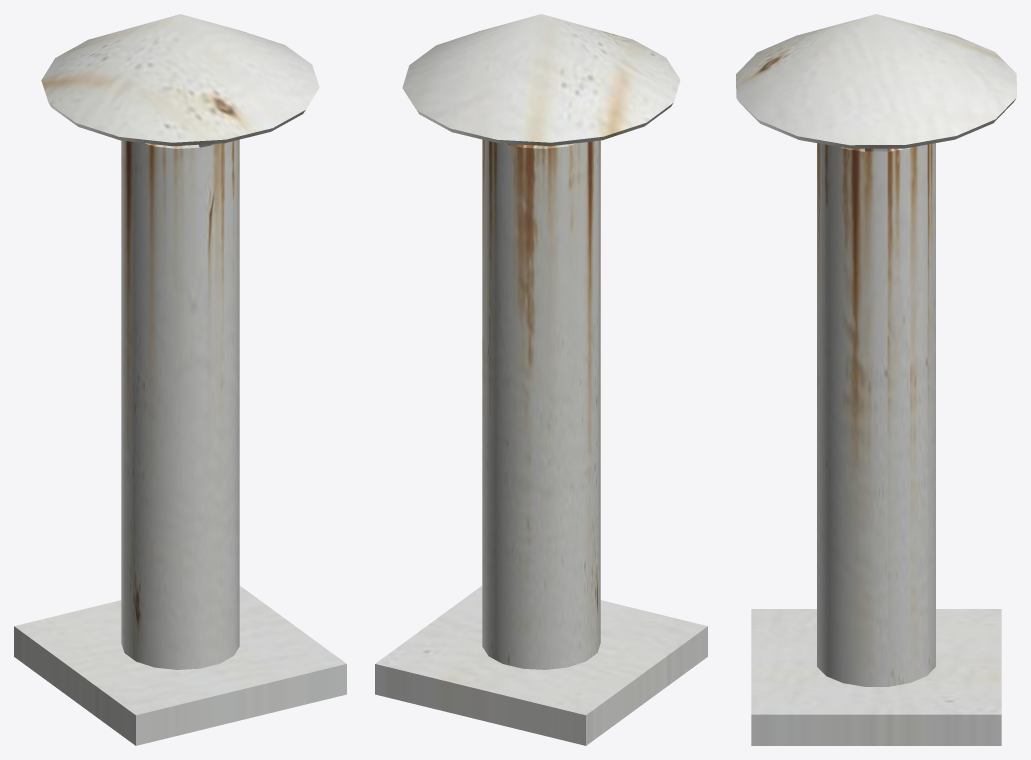
File: Chimenea.fbx
3 renders of one model, left to right at view 1: azimuth 30°, elevation 25°; view 2: azimuth 150°, elevation 25°; view 3: azimuth 270°, elevation 25°, orthographic. The views are drawn at different scales.
Visible parts, largest first — view 1: Chimenea; view 2: Chimenea; view 3: Chimenea.
Boxes of the visible parts, left/top/right/bottom form: Chimenea: left=14, top=14, right=346, bottom=745; Chimenea: left=375, top=14, right=707, bottom=745; Chimenea: left=736, top=14, right=1016, bottom=745.
Bounding box in the file's own units: 23.12 × 61.67 × 23.12.
1 material, 1 textured.
